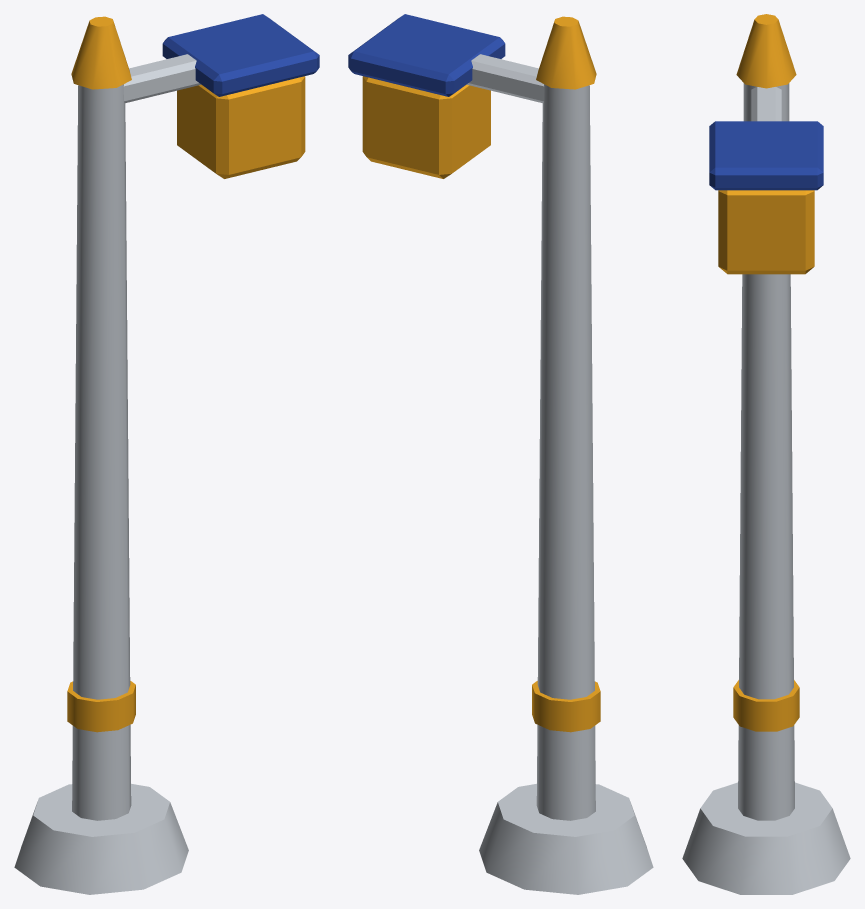
Rendered from lamp_post.obj.
3 renders of one model, left to right at view 1: azimuth 30°, elevation 25°; view 2: azimuth 150°, elevation 25°; view 3: azimuth 270°, elevation 25°, orthographic.
Parts seen in each view (by area): view 1: pole, base, head, head_cap, finial, pole_ring, arm; view 2: pole, base, head, head_cap, finial, pole_ring, arm; view 3: pole, base, head, head_cap, finial, pole_ring, arm.
Boxes of the visible parts, x1=… form: pole: x1=72, y1=84, x2=131, y2=820; base: x1=14, y1=783, x2=188, y2=894; head: x1=177, y1=76, x2=305, y2=178; head_cap: x1=162, y1=14, x2=319, y2=96; finial: x1=71, y1=16, x2=131, y2=89; pole_ring: x1=67, y1=681, x2=135, y2=732; arm: x1=123, y1=54, x2=200, y2=103; pole: x1=536, y1=84, x2=595, y2=820; base: x1=479, y1=783, x2=653, y2=894; head: x1=362, y1=76, x2=490, y2=178; head_cap: x1=348, y1=14, x2=505, y2=96; finial: x1=536, y1=16, x2=596, y2=89; pole_ring: x1=532, y1=681, x2=600, y2=732; arm: x1=467, y1=54, x2=544, y2=103; pole: x1=738, y1=83, x2=794, y2=820; base: x1=682, y1=782, x2=850, y2=894; head: x1=718, y1=190, x2=814, y2=274; head_cap: x1=709, y1=121, x2=823, y2=190; finial: x1=736, y1=14, x2=796, y2=88; pole_ring: x1=733, y1=680, x2=799, y2=731; arm: x1=751, y1=87, x2=781, y2=121.
Size of the model in its own units: 1.1 by 3.3 by 0.6.
